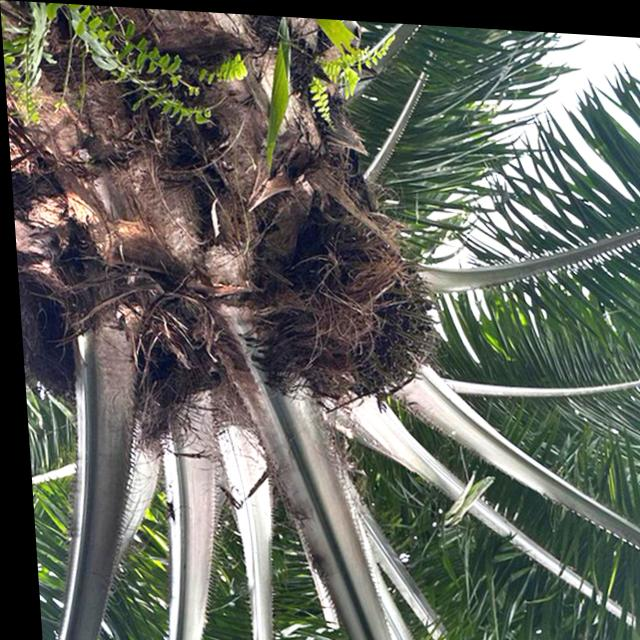unripe: (248, 207, 440, 408)
